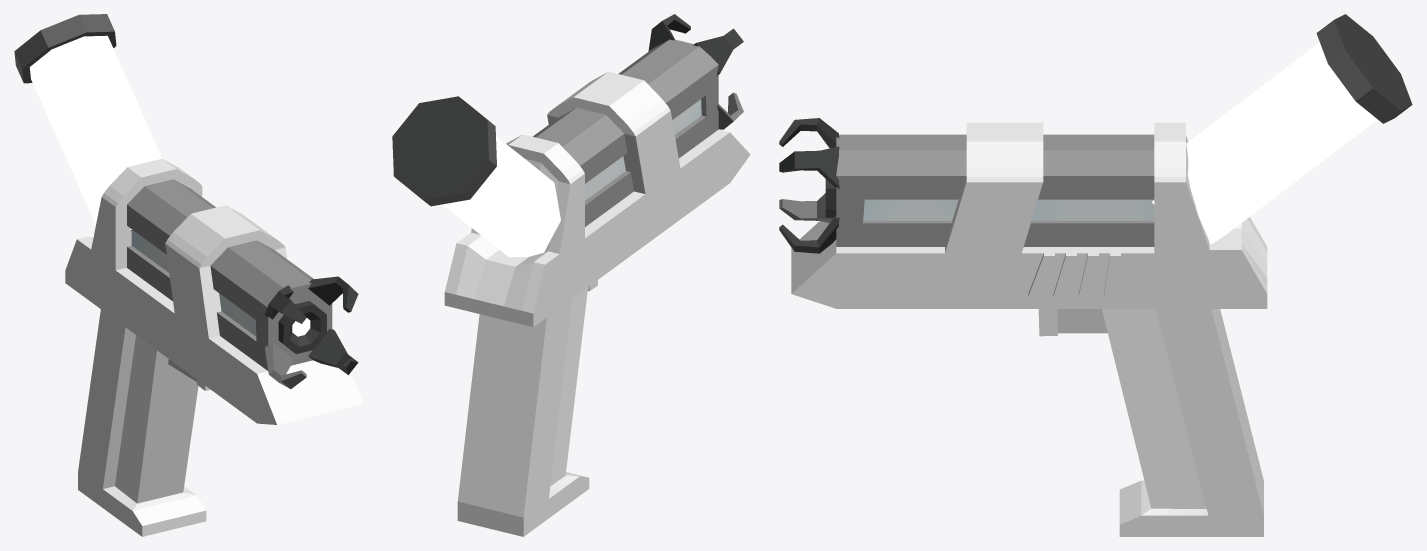
Rendered from LaserPistol.fbx.
3 renders of one model, left to right at view 1: azimuth 30°, elevation 25°; view 2: azimuth 150°, elevation 25°; view 3: azimuth 270°, elevation 25°, orthographic. The views are drawn at different scales.
Parts seen in each view (by area): view 1: Cube.001, Cylinder, Cylinder.001, Cube.005, Cube.003, Cube.004, Cube.002; view 2: Cube.001, Cylinder, Cube.002, Cube.003, Cube.004; view 3: Cube.001, Cylinder, Cube.003, Cube.004, Cube.005, Cube.002.
Part boxes in pixels (x1,y1,x2,y2): Cube.001: (65,159,363,536); Cylinder: (14,14,162,230); Cylinder.001: (278,301,326,353); Cube.005: (308,328,358,374); Cube.003: (308,276,358,312); Cube.004: (264,342,306,388); Cube.002: (265,285,306,323); Cube.001: (444,39,750,536); Cylinder: (392,96,560,257); Cube.002: (693,28,743,75); Cube.003: (648,14,690,51); Cube.004: (717,92,743,129); Cube.001: (791,122,1267,536); Cylinder: (1152,14,1412,243); Cube.003: (779,146,839,188); Cube.004: (779,193,833,222); Cube.005: (779,215,839,253); Cube.002: (779,118,839,148).
Size of the model in its own units: 202 by 900 by 1033.
